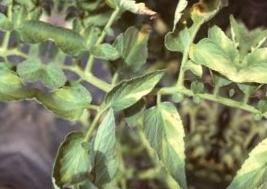Tomato mold leaf: (127, 93, 211, 189), (103, 51, 173, 122), (104, 9, 159, 81), (47, 123, 103, 189), (34, 72, 100, 126), (189, 35, 244, 83)
